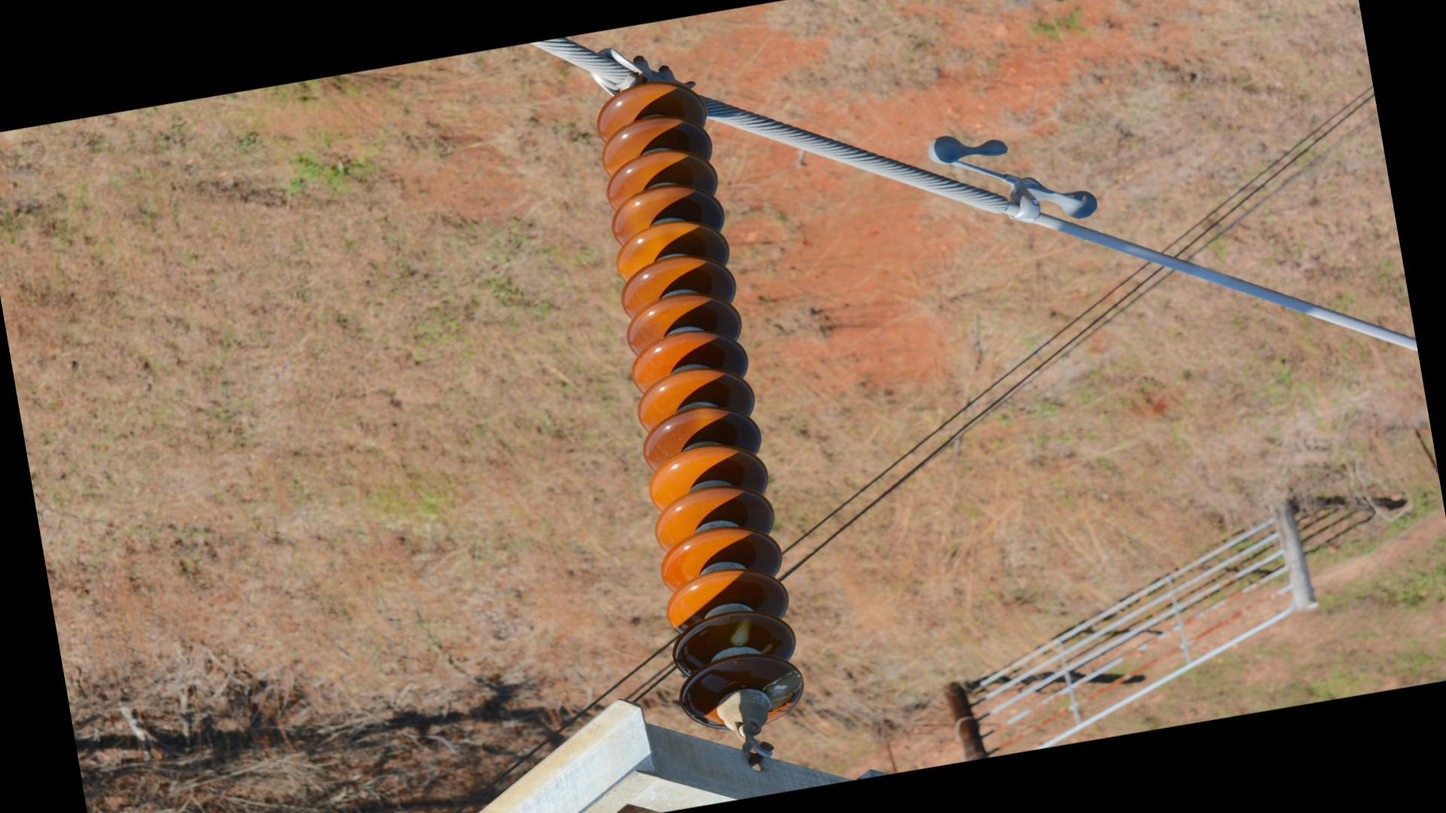damper: (920, 108, 1104, 248)
